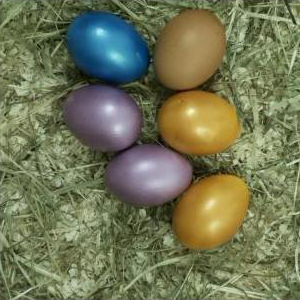egg: (151, 10, 227, 91), (171, 174, 250, 251), (67, 12, 150, 83), (104, 144, 193, 207), (157, 90, 240, 155), (63, 85, 143, 151)
